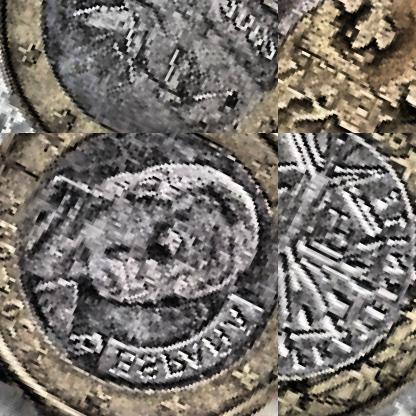coin: (0, 133, 277, 415), (278, 133, 415, 415), (0, 0, 277, 132), (278, 0, 415, 132)
